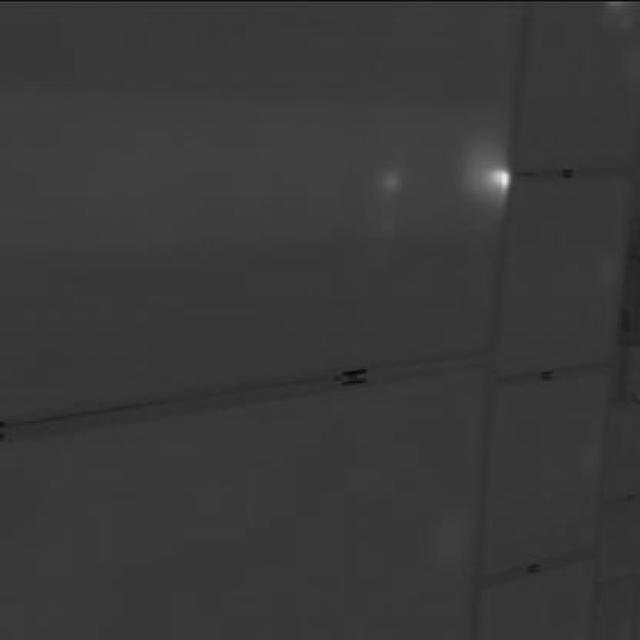hotspot: (482, 156, 516, 199)
